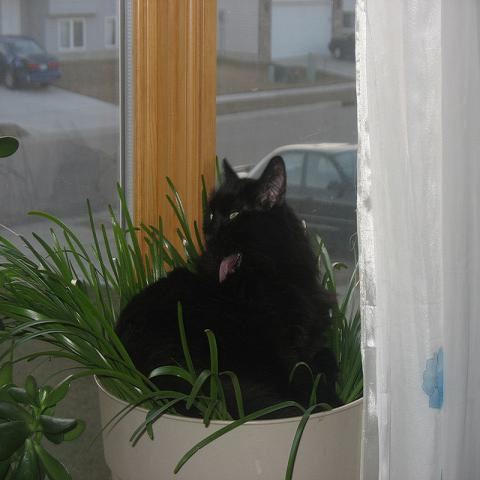car: (236, 141, 360, 334), (0, 34, 62, 88), (328, 28, 354, 60)
